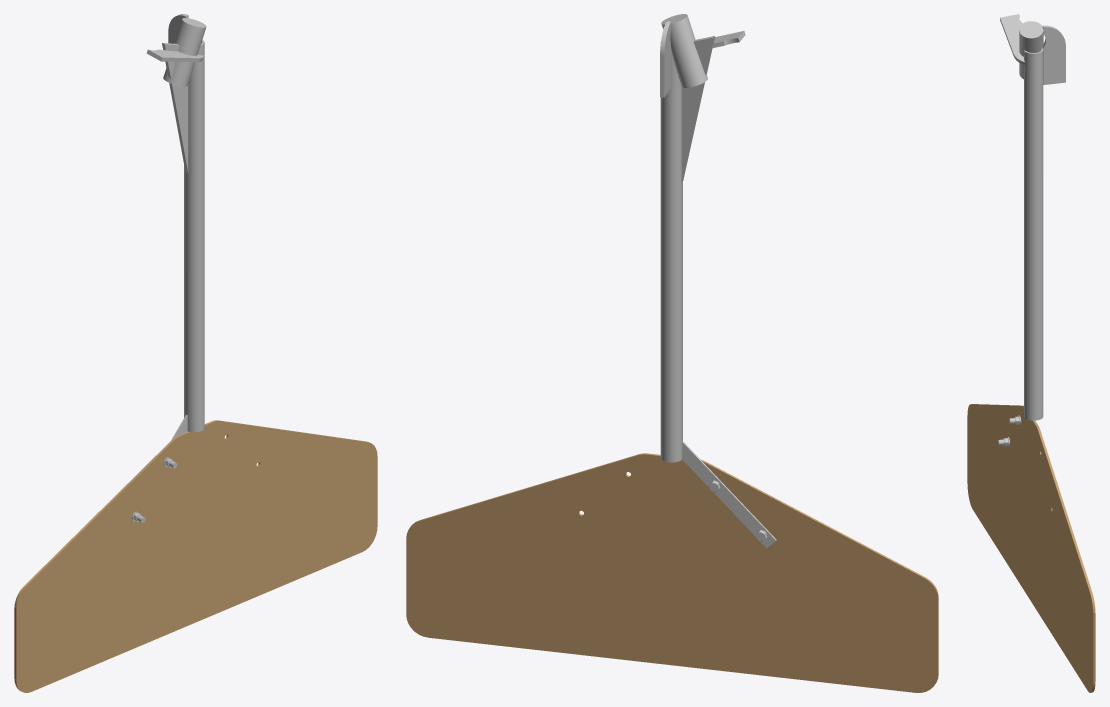
Rendered from tail.glb.
3 renders of one model, left to right at view 1: azimuth 30°, elevation 25°; view 2: azimuth 150°, elevation 25°; view 3: azimuth 270°, elevation 25°, orthographic. The views are drawn at different scales.
Visible parts, largest first — view 1: Vane, Boom_Pipe, Boom_Support, Pipe; view 2: Vane, Boom_Pipe, Vane_Bracket_Bottom, Boom_Support, Pipe, Tail_Stop_HighEnd; view 3: Vane, Boom_Pipe, Tail_Stop_HighEnd, Stop_LowEnd, Pipe_Cover, Pipe.
Part boxes in pixels (bbox=[...]): Vane: bbox=[14, 420, 377, 692]; Boom_Pipe: bbox=[184, 39, 204, 432]; Boom_Support: bbox=[162, 43, 188, 173]; Pipe: bbox=[163, 23, 204, 86]; Vane: bbox=[406, 453, 938, 692]; Boom_Pipe: bbox=[660, 42, 682, 462]; Vane_Bracket_Bottom: bbox=[682, 441, 776, 548]; Boom_Support: bbox=[681, 36, 715, 182]; Pipe: bbox=[663, 20, 707, 87]; Tail_Stop_HighEnd: bbox=[660, 21, 671, 97]; Vane: bbox=[967, 404, 1095, 692]; Boom_Pipe: bbox=[1024, 48, 1043, 420]; Tail_Stop_HighEnd: bbox=[1042, 25, 1065, 84]; Stop_LowEnd: bbox=[1000, 14, 1025, 64]; Pipe_Cover: bbox=[1019, 21, 1043, 41]; Pipe: bbox=[1019, 34, 1043, 79].
Size of the model in its own units: 1.16 by 1.56 by 0.3164.
